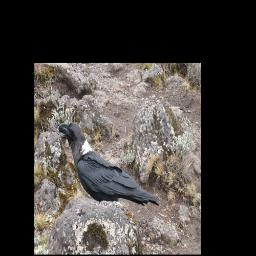Crow: (57, 122, 161, 208)
